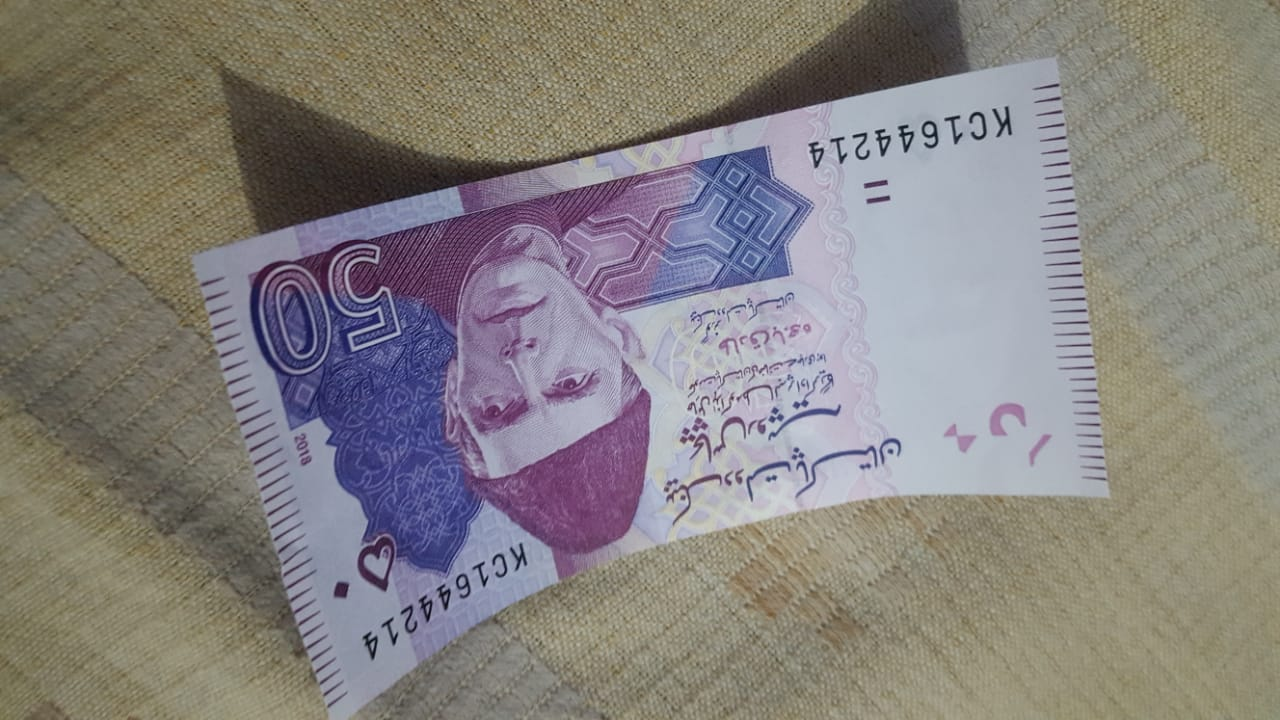50 rupee: (185, 48, 1152, 720)
